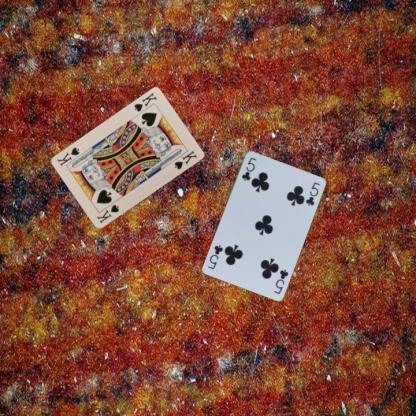5c: (240, 155, 258, 182), (271, 268, 289, 295)
Ks: (94, 202, 120, 225), (132, 90, 158, 113)
